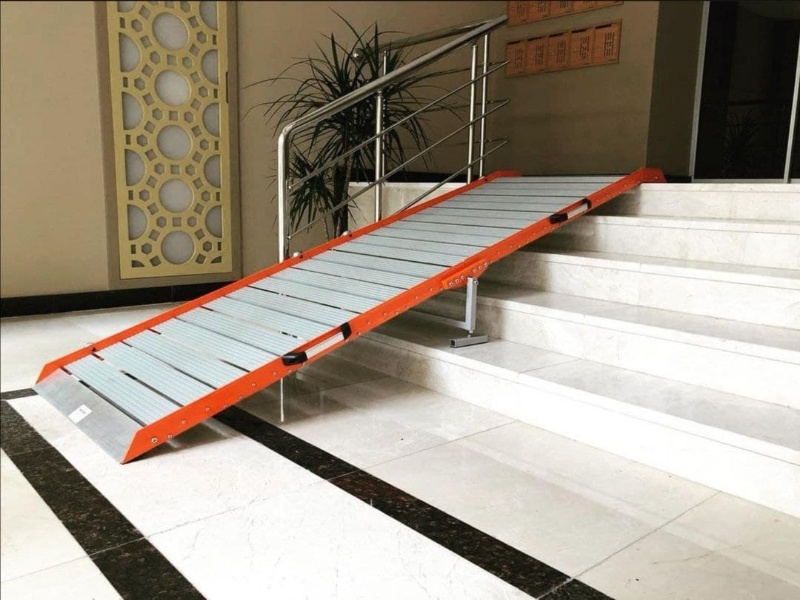slope: (22, 127, 486, 494)
